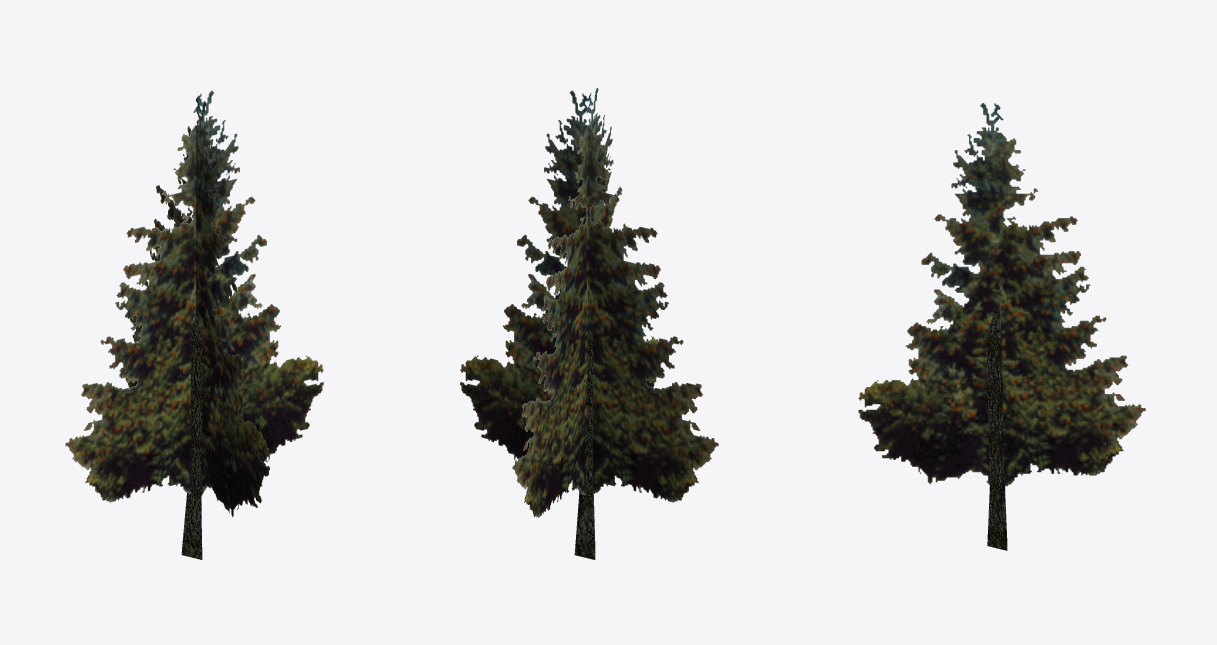
Rendered from Tree20.fbx.
The picture shows the model from 3 angles, left to right: view 1: azimuth 30°, elevation 25°; view 2: azimuth 150°, elevation 25°; view 3: azimuth 270°, elevation 25°; orthographic projection. The views are drawn at different scales.
Parts seen in each view (by area): view 1: Lomb, T_rzs; view 2: Lomb, T_rzs; view 3: Lomb, T_rzs.
Boxes of the visible parts, left/top/right/bottom form: Lomb: left=65, top=90, right=323, bottom=517; T_rzs: left=181, top=308, right=202, bottom=559; Lomb: left=460, top=87, right=718, bottom=517; T_rzs: left=574, top=333, right=595, bottom=559; Lomb: left=858, top=103, right=1145, bottom=493; T_rzs: left=986, top=306, right=1007, bottom=550.
Size of the model in its own units: 22.09 by 26.91 by 22.09.
